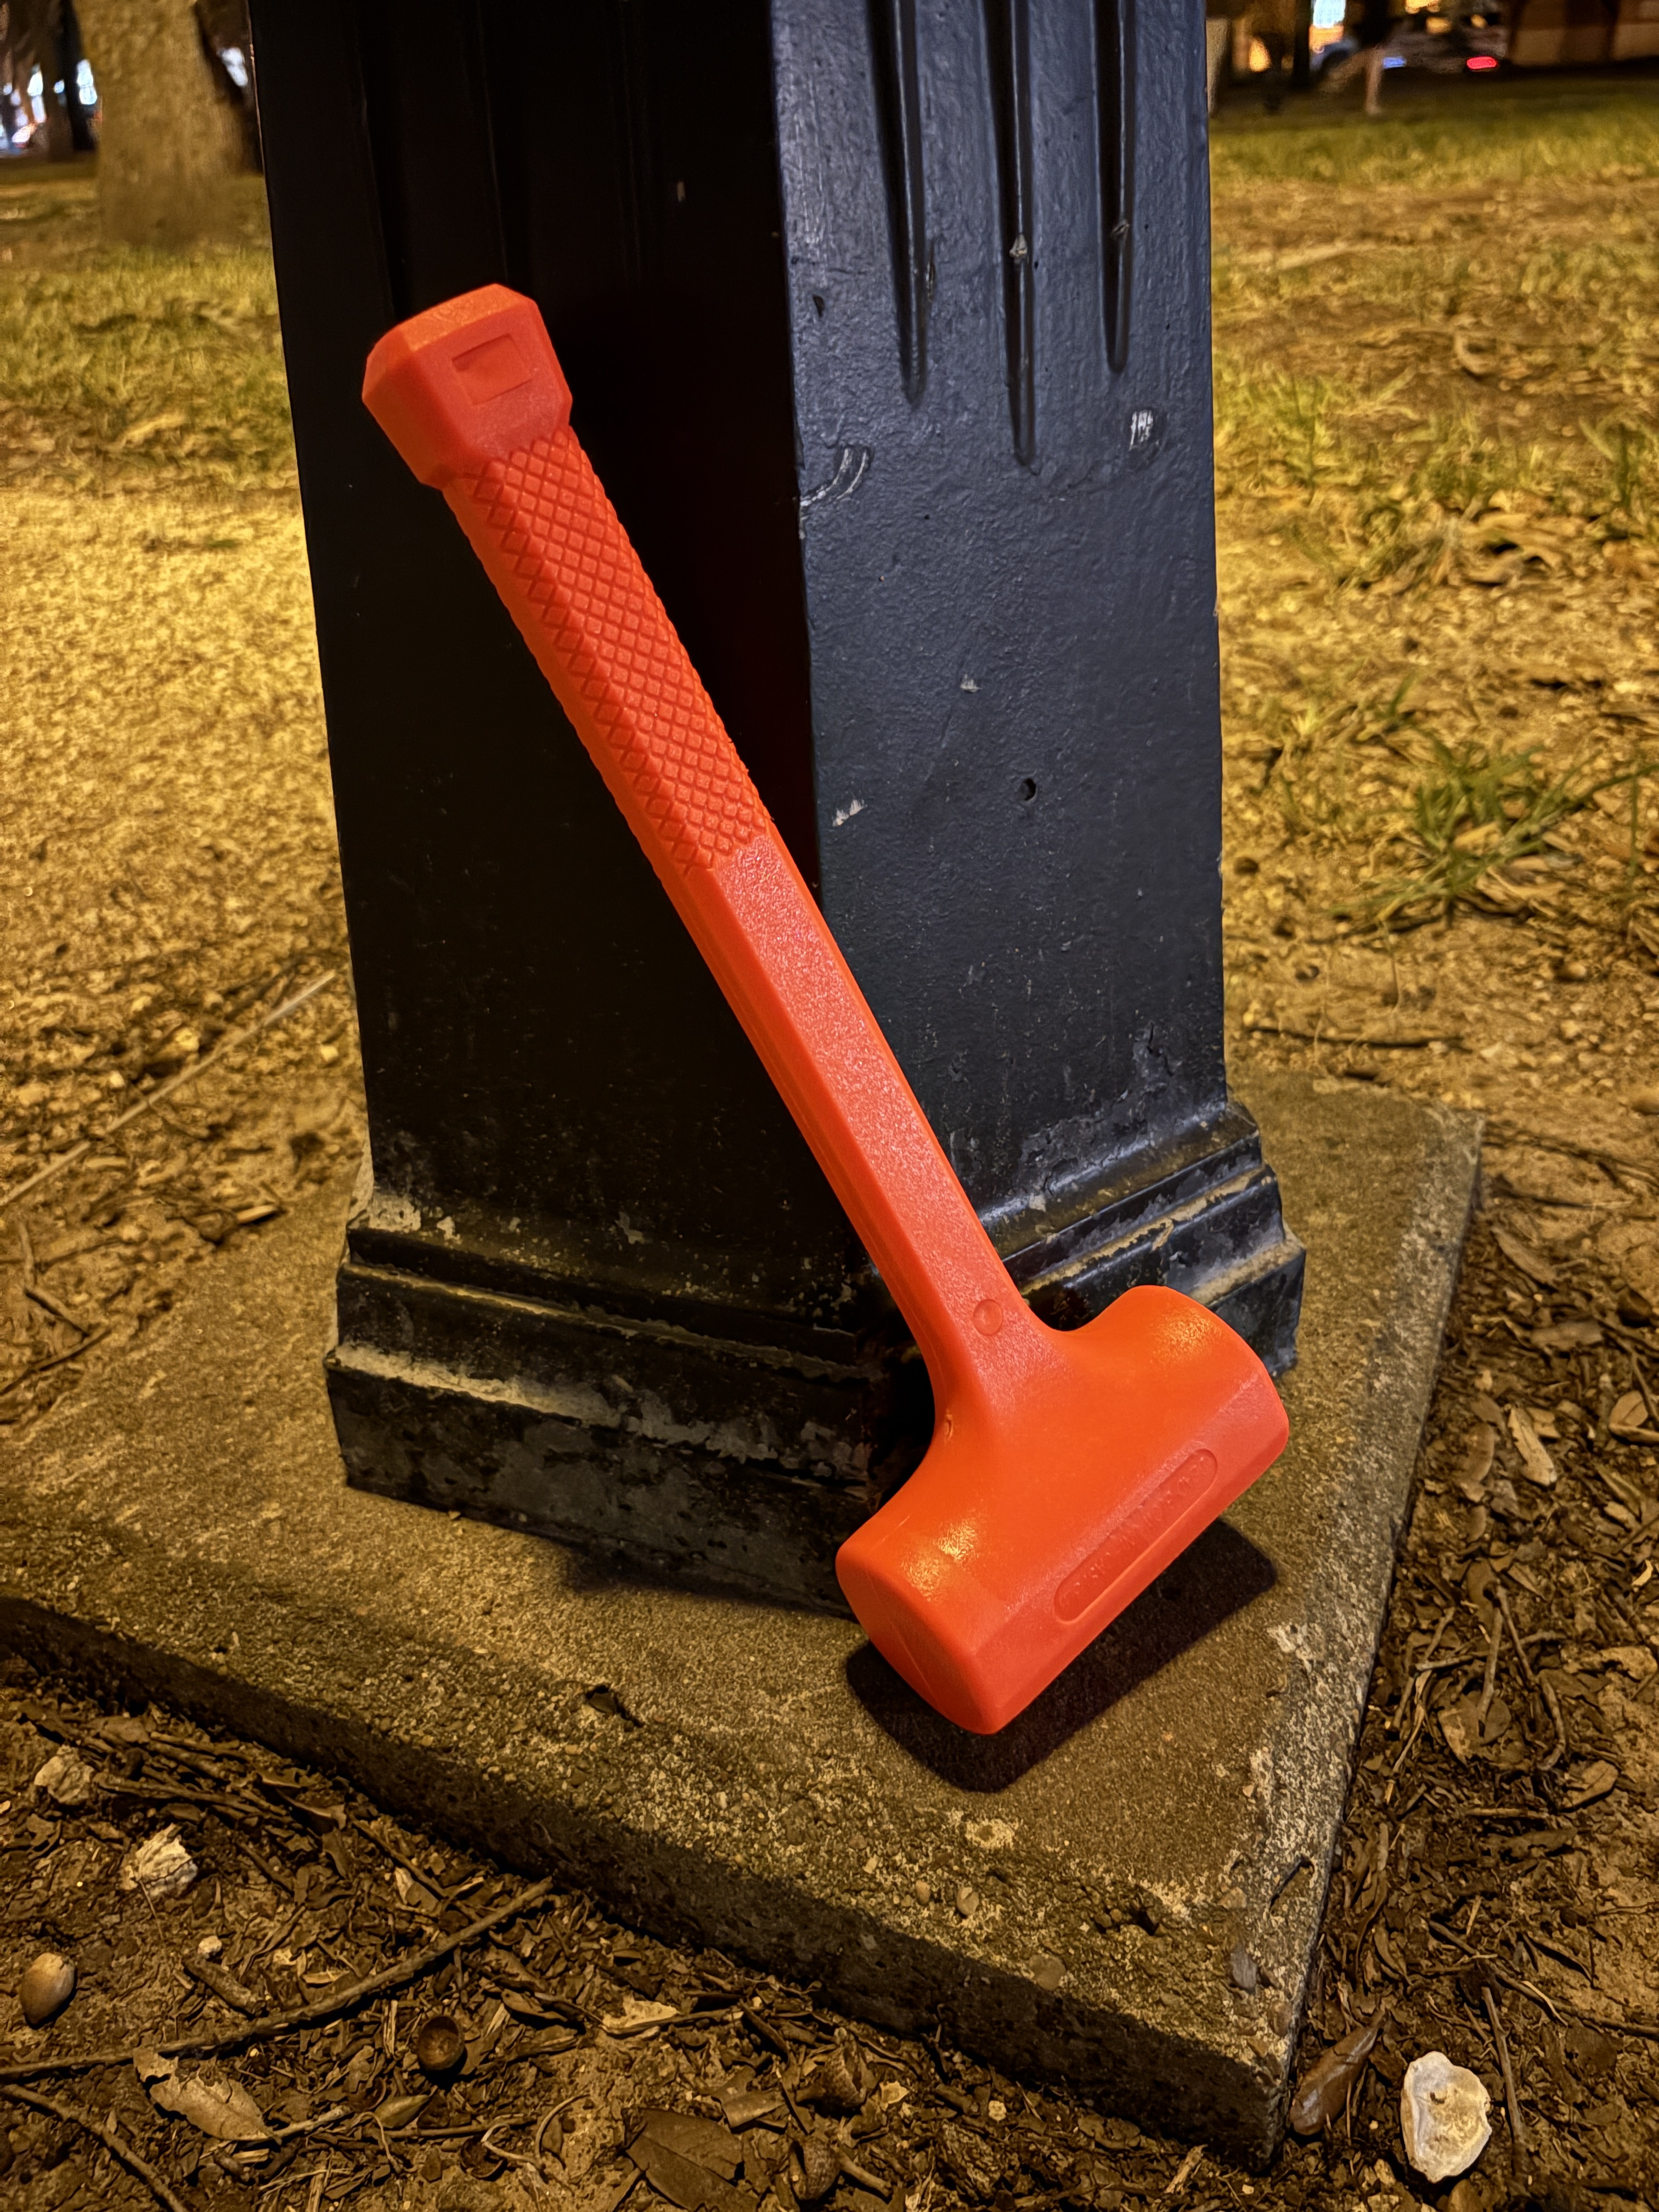Hammer: (279, 226, 1323, 1683)
